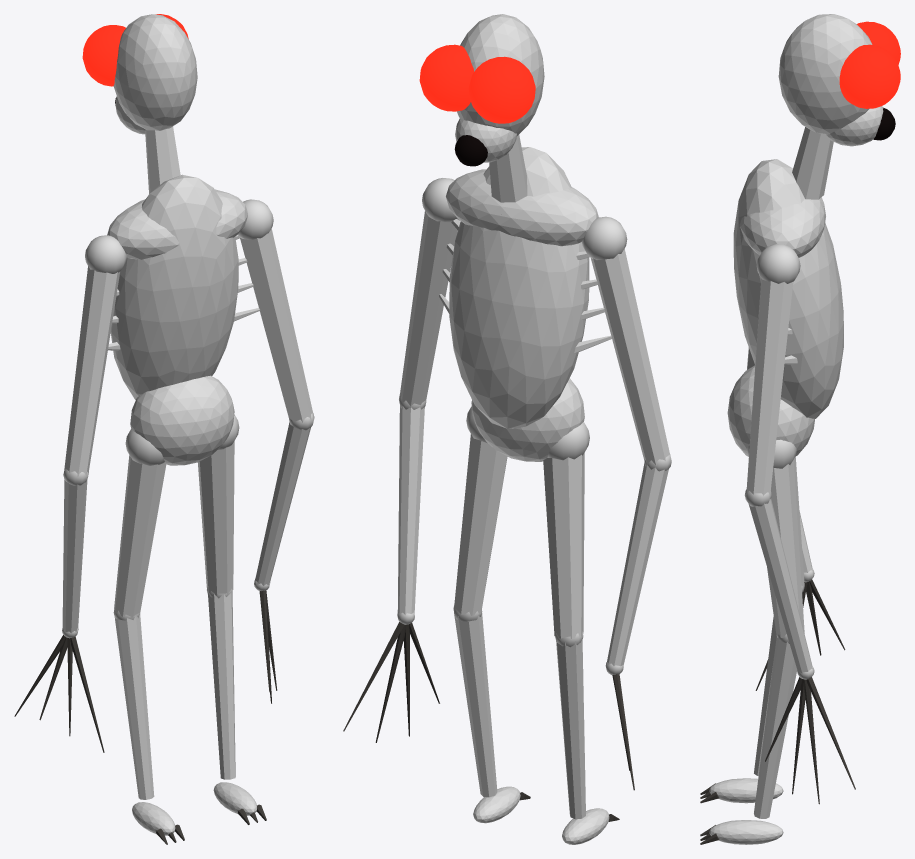
Rendered from monster_listener.glb.
3 views of the same model, side by side, from view 1: azimuth 30°, elevation 25°; view 2: azimuth 150°, elevation 25°; view 3: azimuth 270°, elevation 25° (orthographic). The views are drawn at different scales.
Visible parts, largest first — view 1: Monster; view 2: Monster; view 3: Monster.
Boxes of the visible parts, box(x1,y1,x2,y2) form: Monster: box(14, 14, 314, 844); Monster: box(343, 14, 671, 844); Monster: box(700, 14, 900, 844).
Size of the model in its own units: 0.9332 by 2.62 by 0.5914.
